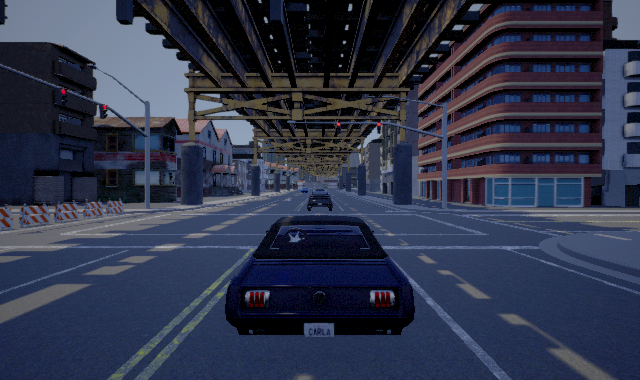traffic_light: (57, 88, 68, 107), (99, 104, 108, 119), (377, 122, 381, 134), (337, 122, 341, 134)
vehicle: (225, 215, 415, 337), (307, 188, 333, 211)
